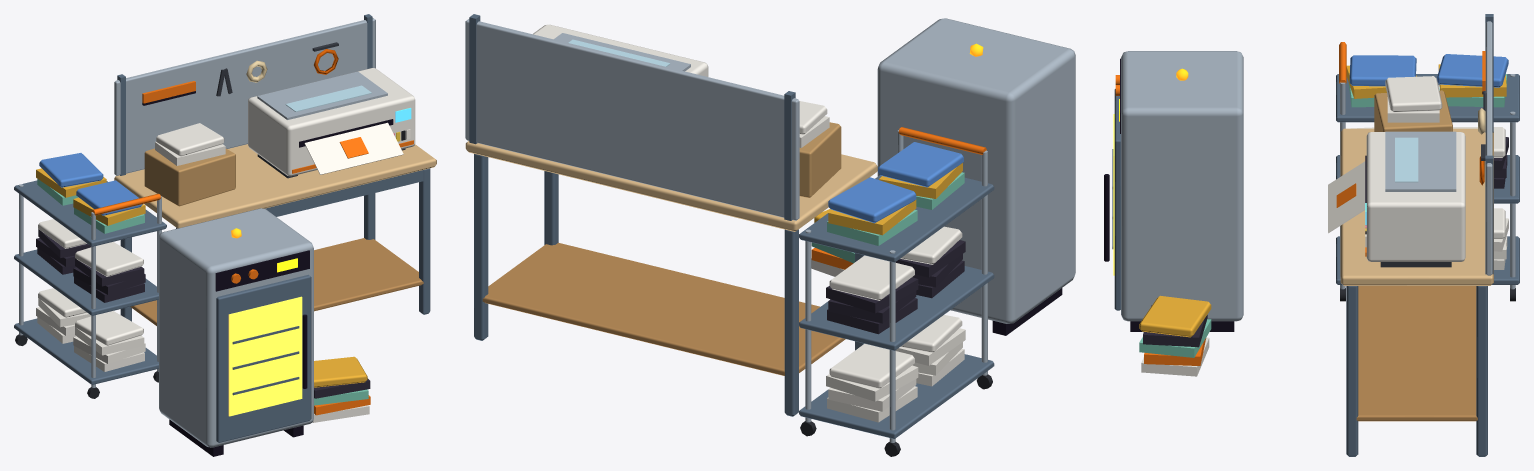
The model's file is station_buffer_2.glb.
The picture shows the model from 3 angles, left to right: view 1: azimuth 30°, elevation 25°; view 2: azimuth 150°, elevation 25°; view 3: azimuth 270°, elevation 25°; orthographic projection. The views are drawn at different scales.
Parts seen in each view (by area): view 1: station_buffer_2; view 2: station_buffer_2; view 3: station_buffer_2.
Boxes of the visible parts, box(x1,y1,x2,y2) form: station_buffer_2: box(14, 14, 436, 456); station_buffer_2: box(465, 14, 1075, 456); station_buffer_2: box(1104, 14, 1519, 456).
Size of the model in its own units: 2.01 by 1.4 by 1.76.
